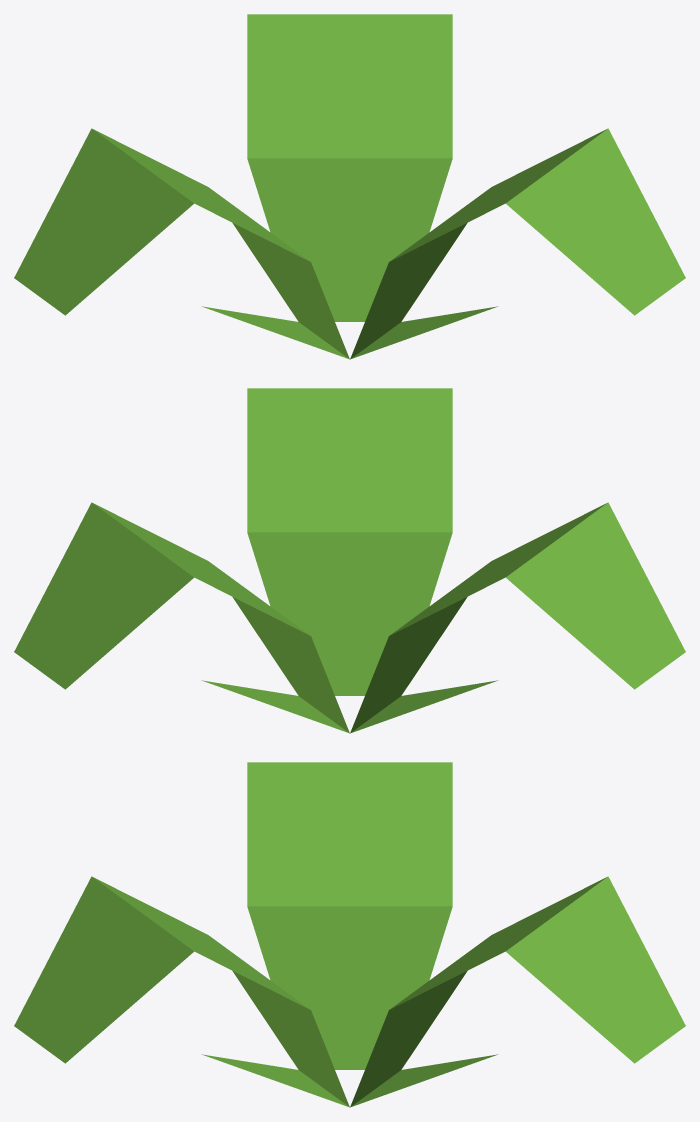
The model's file is plant_bushLargeTriangle.glb.
3 renders of one model, top to bottom at view 1: azimuth 30°, elevation 25°; view 2: azimuth 150°, elevation 25°; view 3: azimuth 270°, elevation 25°, orthographic.
Visible parts, largest first — view 1: plant_bushLargeTriangle; view 2: plant_bushLargeTriangle; view 3: plant_bushLargeTriangle.
Part boxes in pixels (left/top/right/bottom): plant_bushLargeTriangle: left=14, top=14, right=685, bottom=359; plant_bushLargeTriangle: left=14, top=388, right=685, bottom=733; plant_bushLargeTriangle: left=14, top=762, right=685, bottom=1107.
Bounding box in the file's own units: 0.4077 × 0.1693 × 0.4708.
